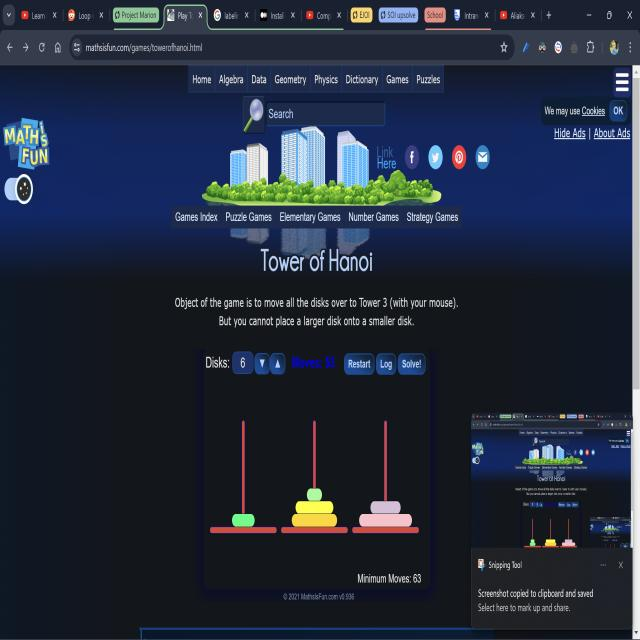disk1: (307, 488, 322, 501)
disk2: (232, 514, 254, 526)
disk3: (370, 501, 400, 514)
disk4: (295, 501, 333, 514)
disk5: (292, 514, 337, 527)
disk6: (359, 514, 412, 527)
